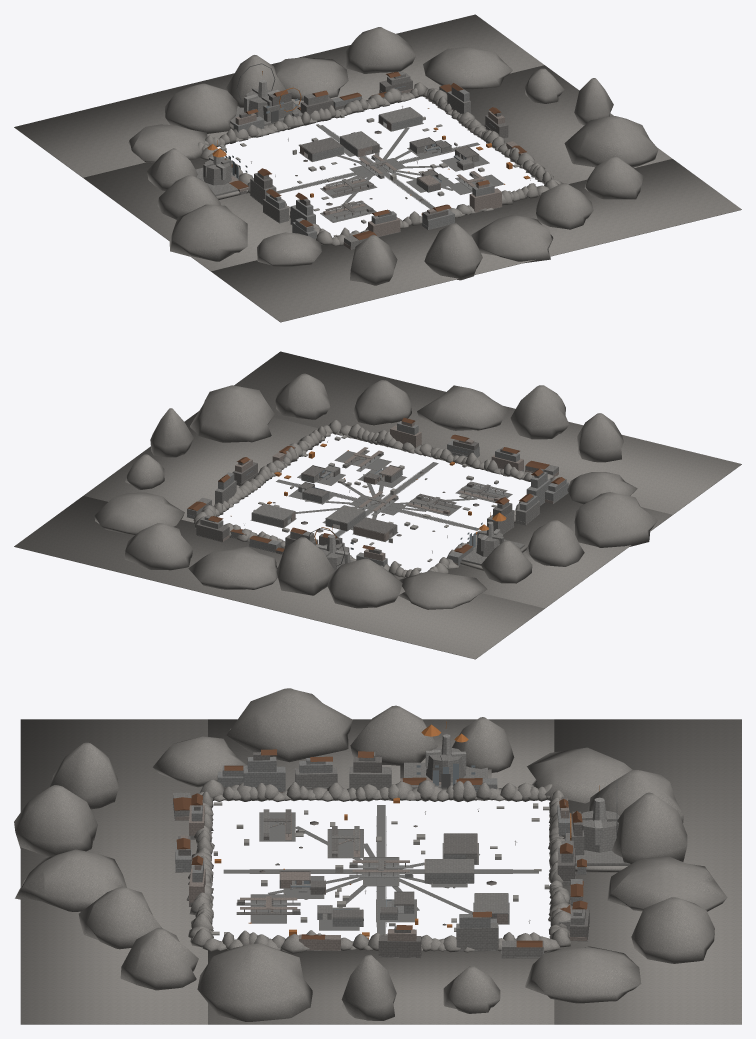
3 renders of one model, top to bottom at view 1: azimuth 30°, elevation 25°; view 2: azimuth 150°, elevation 25°; view 3: azimuth 270°, elevation 25°, orthographic. The views are drawn at different scales.
Parts seen in each view (by area): view 1: HB_z09_LOD1_terrain, HB_z09_LOD1_wall_alt, HB_z09_LOD1_wall_cool, HB_z09_LOD1_wall_weathered, HB_z09_LOD1_road, HB_z09_LOD1_wall_warm, HB_z09_LOD1_roof, HB_z09_LOD1_LANDMARK_1_wall_alt, HB_z09_LOD1_obstacle, HB_z09_LOD1_LANDMARK_0_wall_alt; view 2: HB_z09_LOD1_terrain, HB_z09_LOD1_wall_alt, HB_z09_LOD1_wall_cool, HB_z09_LOD1_wall_weathered, HB_z09_LOD1_road, HB_z09_LOD1_wall_warm, HB_z09_LOD1_roof, HB_z09_LOD1_obstacle, HB_z09_LOD1_LANDMARK_1_wall_alt; view 3: HB_z09_LOD1_terrain, HB_z09_LOD1_wall_alt, HB_z09_LOD1_road, HB_z09_LOD1_wall_cool, HB_z09_LOD1_wall_weathered, HB_z09_LOD1_wall_warm, HB_z09_LOD1_roof, HB_z09_LOD1_LANDMARK_0_wall_alt, HB_z09_LOD1_LANDMARK_1_wall_alt, HB_z09_LOD1_obstacle.
Boxes of the visible parts, box(x1,y1,x2,y2) form: HB_z09_LOD1_terrain: box(14, 14, 741, 322); HB_z09_LOD1_wall_alt: box(240, 72, 508, 249); HB_z09_LOD1_wall_cool: box(220, 85, 494, 239); HB_z09_LOD1_wall_weathered: box(239, 79, 508, 219); HB_z09_LOD1_road: box(276, 123, 502, 222); HB_z09_LOD1_wall_warm: box(228, 88, 527, 249); HB_z09_LOD1_roof: box(224, 71, 526, 240); HB_z09_LOD1_LANDMARK_1_wall_alt: box(195, 159, 247, 196); HB_z09_LOD1_obstacle: box(219, 114, 535, 236); HB_z09_LOD1_LANDMARK_0_wall_alt: box(230, 88, 302, 124); HB_z09_LOD1_terrain: box(14, 351, 741, 659); HB_z09_LOD1_wall_alt: box(187, 444, 568, 565); HB_z09_LOD1_wall_cool: box(187, 421, 568, 567); HB_z09_LOD1_wall_weathered: box(196, 439, 544, 554); HB_z09_LOD1_road: box(250, 451, 512, 541); HB_z09_LOD1_wall_warm: box(222, 421, 558, 565); HB_z09_LOD1_roof: box(187, 417, 565, 553); HB_z09_LOD1_obstacle: box(253, 435, 498, 571); HB_z09_LOD1_LANDMARK_1_wall_alt: box(461, 530, 524, 565); HB_z09_LOD1_terrain: box(14, 688, 741, 1024); HB_z09_LOD1_wall_alt: box(172, 752, 589, 958); HB_z09_LOD1_road: box(223, 805, 538, 935); HB_z09_LOD1_wall_cool: box(175, 756, 586, 957); HB_z09_LOD1_wall_weathered: box(178, 752, 589, 957); HB_z09_LOD1_wall_warm: box(175, 777, 587, 950); HB_z09_LOD1_roof: box(173, 749, 587, 947); HB_z09_LOD1_LANDMARK_0_wall_alt: box(565, 810, 630, 865); HB_z09_LOD1_LANDMARK_1_wall_alt: box(404, 747, 487, 789); HB_z09_LOD1_obstacle: box(212, 802, 549, 935).
Size of the model in its own units: 667 by 67.08 by 660.
13 materials, 12 textured.
